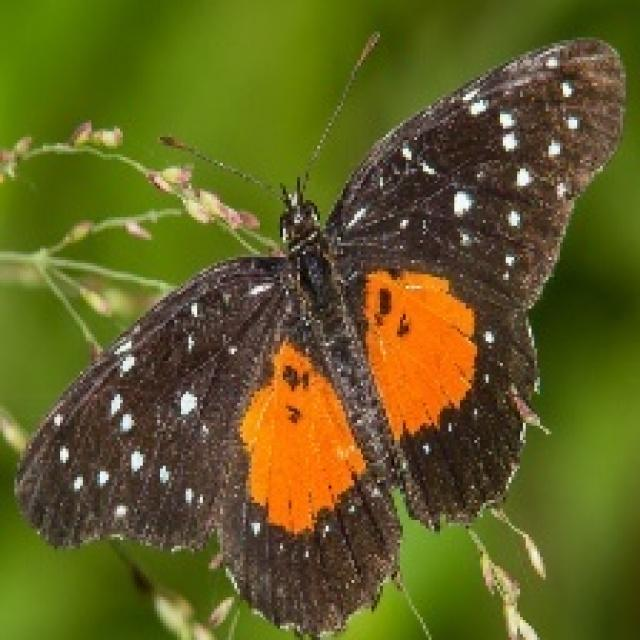butterfly: (11, 26, 626, 637)
